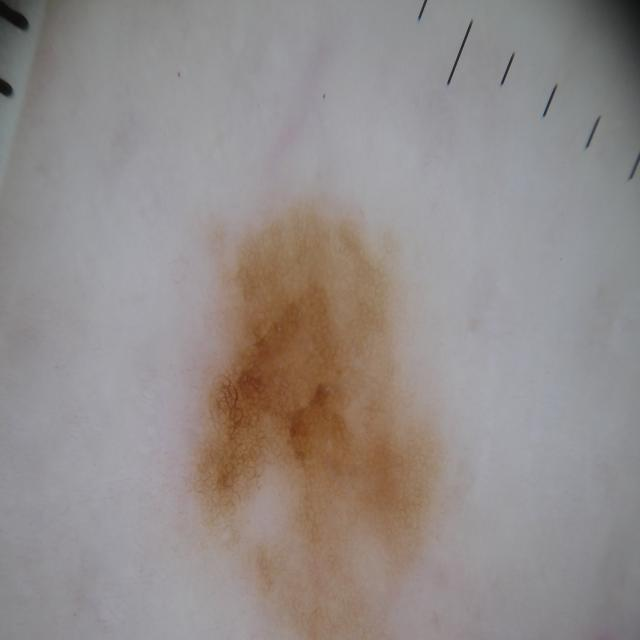Melanoma: (172, 222, 462, 640)
